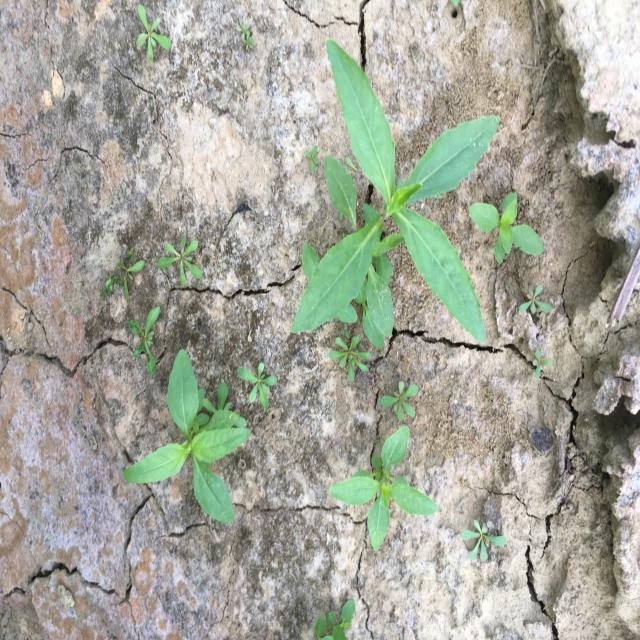Carpetweed: (128, 306, 160, 375), (158, 237, 202, 287), (136, 4, 172, 64), (328, 336, 372, 383), (461, 519, 506, 562), (237, 362, 277, 410), (380, 381, 419, 423), (519, 284, 552, 314), (532, 349, 554, 379), (237, 18, 256, 51), (306, 145, 320, 174)
Eclipta: (291, 39, 500, 351), (122, 349, 250, 523), (328, 426, 439, 550), (469, 192, 544, 264)
